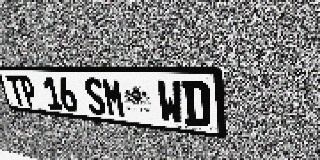1: (41, 76, 64, 111)
6: (56, 77, 79, 113)
D: (182, 81, 211, 128)
M: (101, 78, 127, 118)
P: (18, 76, 39, 108)
S: (83, 78, 108, 116)
T: (6, 75, 27, 106)
W: (156, 80, 184, 125)
